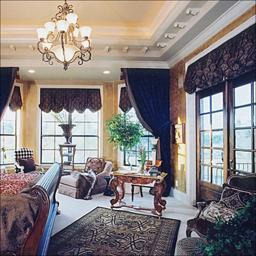Puerta: (196, 82, 226, 194), (228, 77, 253, 173)
Ventana: (41, 88, 101, 166), (120, 87, 156, 166), (3, 83, 20, 165)
